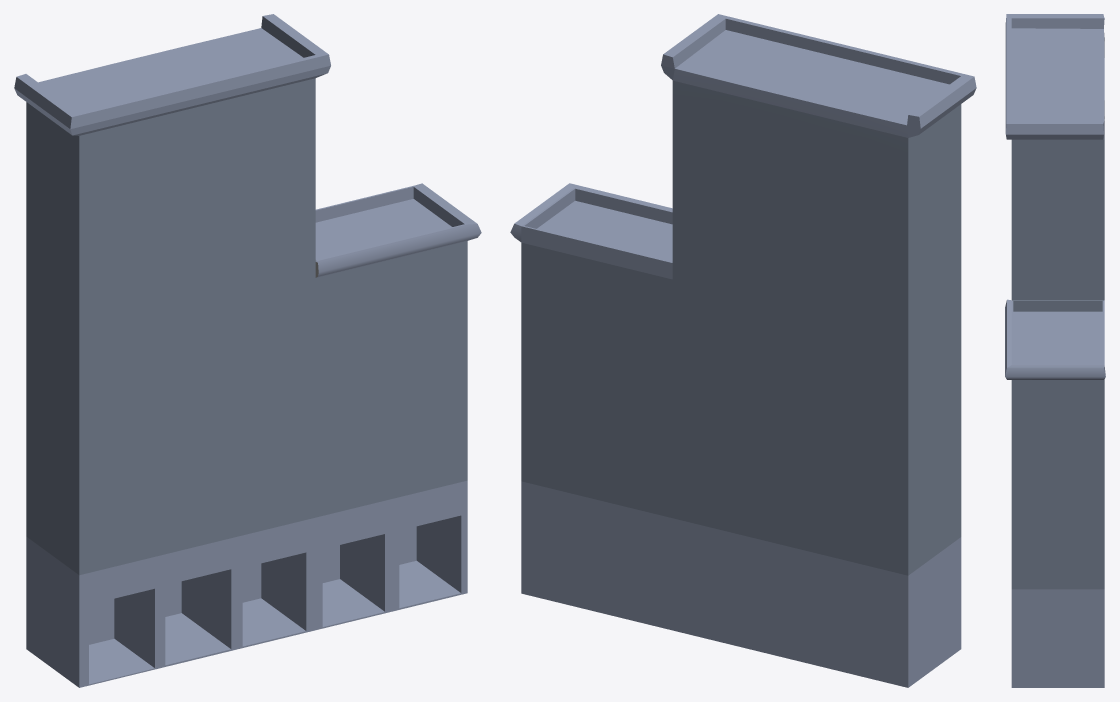
File: building_L_6floors.fbx
The picture shows the model from 3 angles, left to right: view 1: azimuth 30°, elevation 25°; view 2: azimuth 150°, elevation 25°; view 3: azimuth 270°, elevation 25°; orthographic projection. The views are drawn at different scales.
Parts seen in each view (by area): view 1: building_L_6floors; view 2: building_L_6floors; view 3: building_L_6floors.
Part boxes in pixels (x1=…): building_L_6floors: x1=14, y1=14, x2=481, y2=687; building_L_6floors: x1=510, y1=14, x2=976, y2=687; building_L_6floors: x1=1005, y1=14, x2=1105, y2=687.
Bounding box in the file's own units: 14.01 × 18.75 × 3.4.
